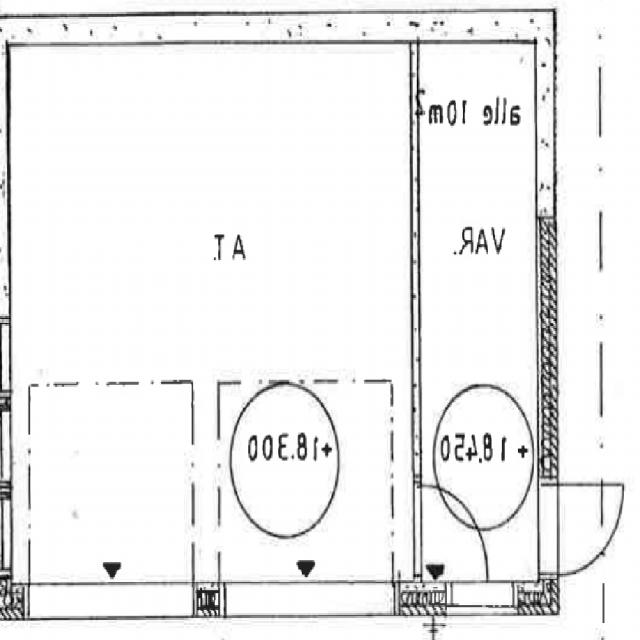door: (539, 485, 622, 572), (413, 486, 480, 574)
